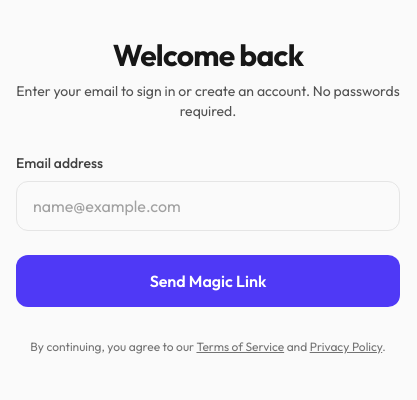
Test: Login Component › debería mostrar mensaje de éxito al enviar magic link correctamente
The image size is (417, 400).
Type "test@example.com" into the field with placeholder "name@example.com". click: point(208, 206)
box: [16, 181, 400, 231]
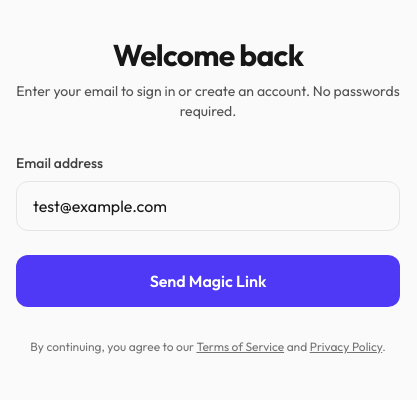
Click the button "Send Magic Link". click: point(208, 281)
box: [16, 255, 400, 307]
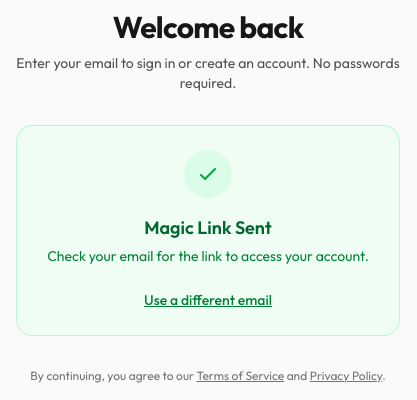
Check: the heading "Magic Link Sent" is shown, box [144, 216, 272, 238]
